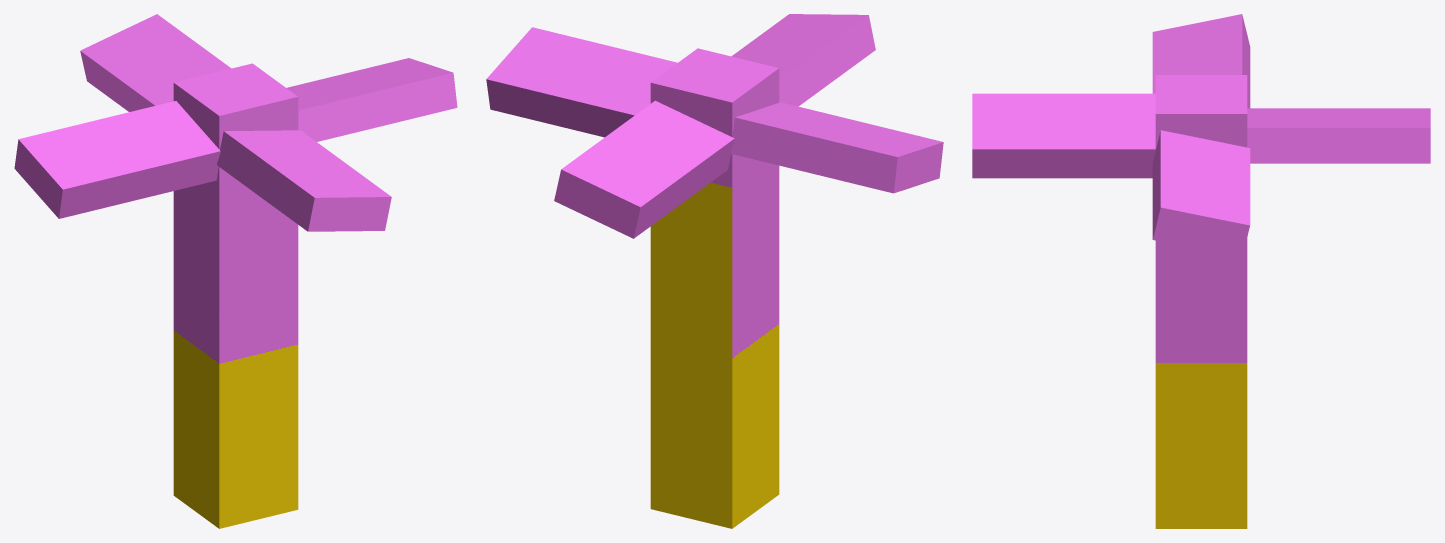
3 views of the same model, side by side, from view 1: azimuth 30°, elevation 25°; view 2: azimuth 150°, elevation 25°; view 3: azimuth 270°, elevation 25° (orthographic). The views are drawn at different scales.
Parts seen in each view (by area): view 1: Moving, cube; view 2: Moving, cube; view 3: Moving, cube.
Part boxes in pixels (box(x1,y1,x2,y2)): Moving: box(14, 14, 457, 231); cube: box(173, 184, 298, 528); Moving: box(486, 14, 943, 238); cube: box(650, 162, 779, 528); Moving: box(972, 14, 1430, 257); cube: box(1155, 238, 1247, 528).
Bounding box in the file's own units: 0.625 × 0.625 × 0.625.
